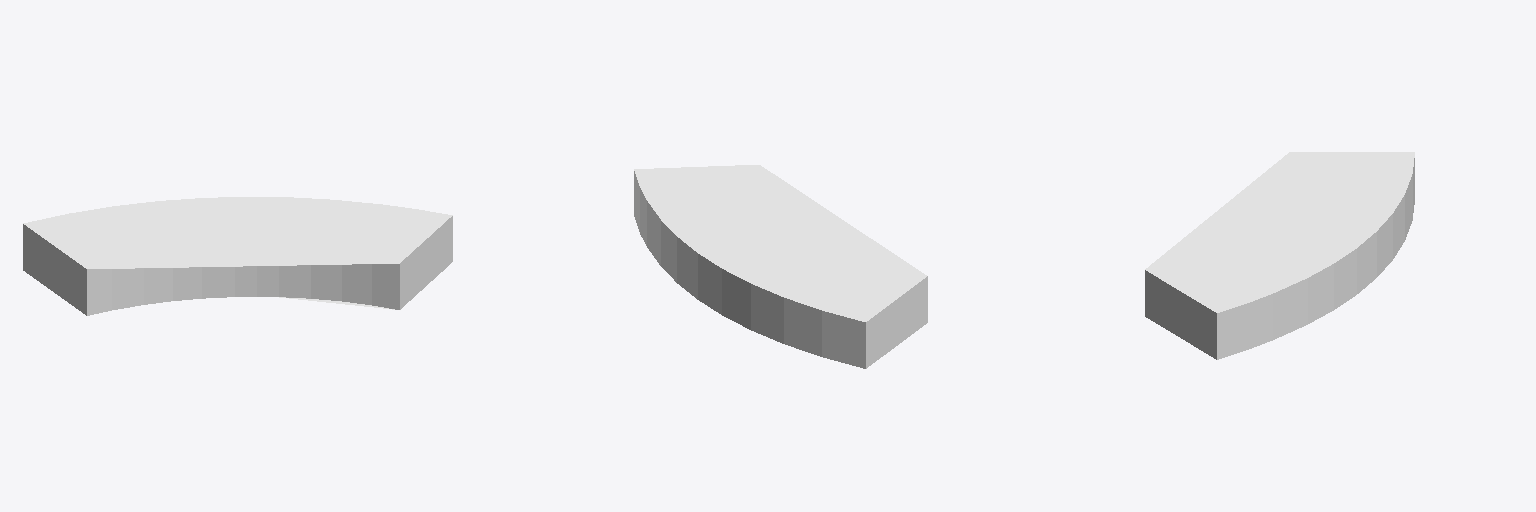
Rendered from platform-for-uv-layout.obj.
3 renders of one model, left to right at view 1: azimuth 30°, elevation 25°; view 2: azimuth 150°, elevation 25°; view 3: azimuth 270°, elevation 25°, orthographic.
Visible parts, largest first — view 1: platform; view 2: platform; view 3: platform.
Part boxes in pixels (bbox=[...]): platform: bbox=[23, 197, 452, 315]; platform: bbox=[634, 165, 927, 368]; platform: bbox=[1145, 152, 1414, 359].
Bounding box in the file's own units: 3.71 × 0.5 × 2.63.